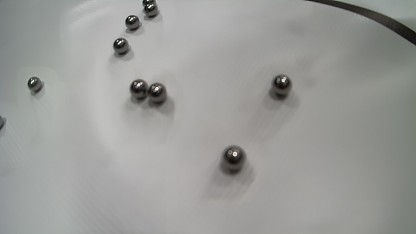ironball: (221, 145, 246, 172), (271, 74, 291, 96), (129, 78, 148, 99), (147, 82, 166, 103), (113, 37, 129, 54), (125, 14, 140, 30), (27, 76, 42, 92), (144, 3, 158, 17), (142, 0, 156, 7), (0, 115, 3, 129)
